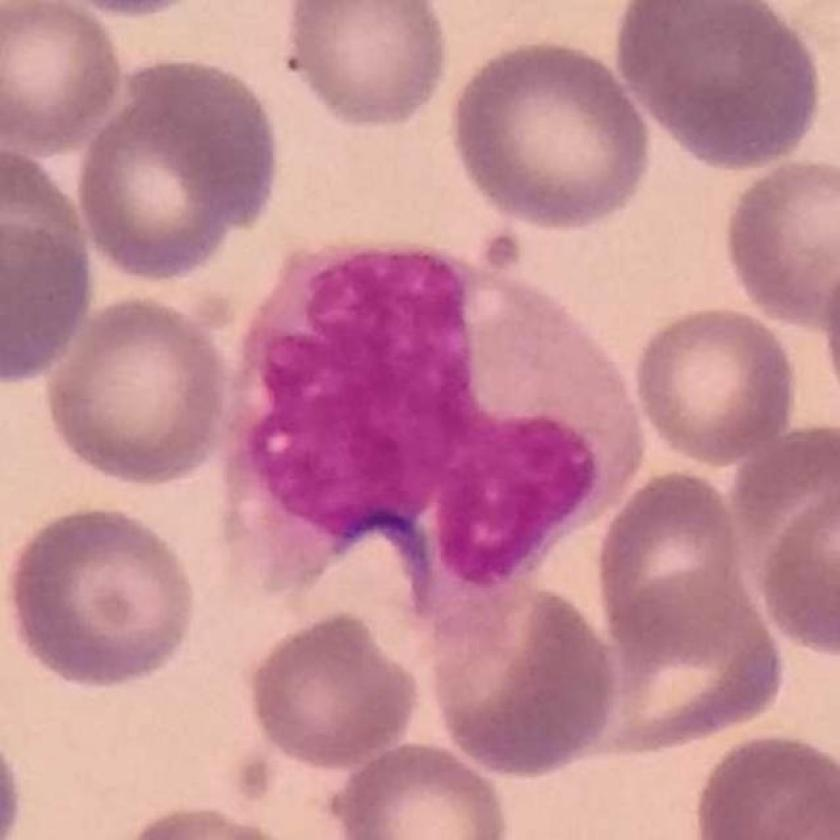monocyte: (222, 240, 655, 628)
